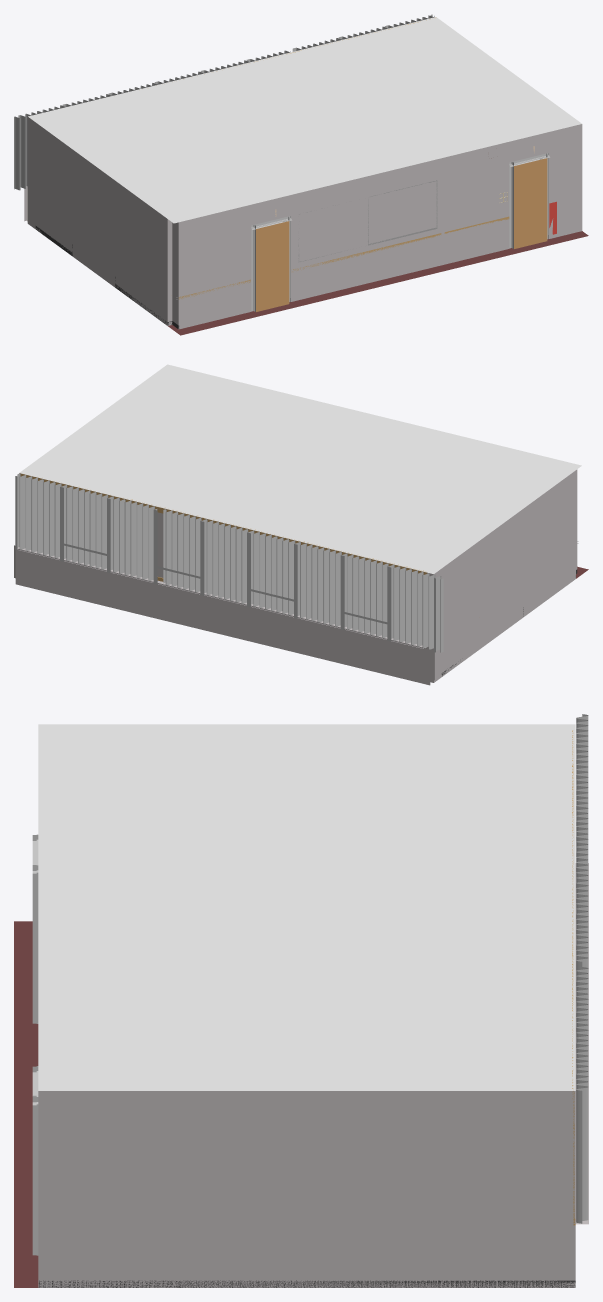
File: conference.glb
3 renders of one model, top to bottom at view 1: azimuth 30°, elevation 25°; view 2: azimuth 150°, elevation 25°; view 3: azimuth 270°, elevation 25°, orthographic. The views are drawn at different scales.
Visible parts, largest first — view 1: mesh5, mesh0, mesh2, mesh4, mesh35, mesh7, mesh8; view 2: mesh5, mesh0, mesh35, mesh10, mesh8; view 3: mesh5, mesh0, mesh4, mesh35, mesh6, mesh7.
Part boxes in pixels (x1=…): mesh5: x1=28, y1=17, x2=581, y2=223; mesh0: x1=24, y1=117, x2=582, y2=329; mesh2: x1=256, y1=158, x2=547, y2=311; mesh4: x1=168, y1=231, x2=588, y2=335; mesh35: x1=14, y1=15, x2=434, y2=190; mesh7: x1=251, y1=153, x2=549, y2=311; mesh8: x1=178, y1=17, x2=509, y2=299; mesh5: x1=19, y1=364, x2=581, y2=574; mesh0: x1=15, y1=469, x2=577, y2=685; mesh35: x1=17, y1=473, x2=443, y2=652; mesh10: x1=15, y1=476, x2=435, y2=652; mesh8: x1=19, y1=473, x2=427, y2=581; mesh5: x1=38, y1=724, x2=575, y2=1090; mesh0: x1=38, y1=863, x2=588, y2=1287; mesh4: x1=14, y1=921, x2=38, y2=1287; mesh35: x1=576, y1=714, x2=588, y2=1223; mesh6: x1=39, y1=1280, x2=575, y2=1287; mesh7: x1=32, y1=834, x2=38, y2=1255.
Size of the model in its own units: 238 by 57.5 by 152.
